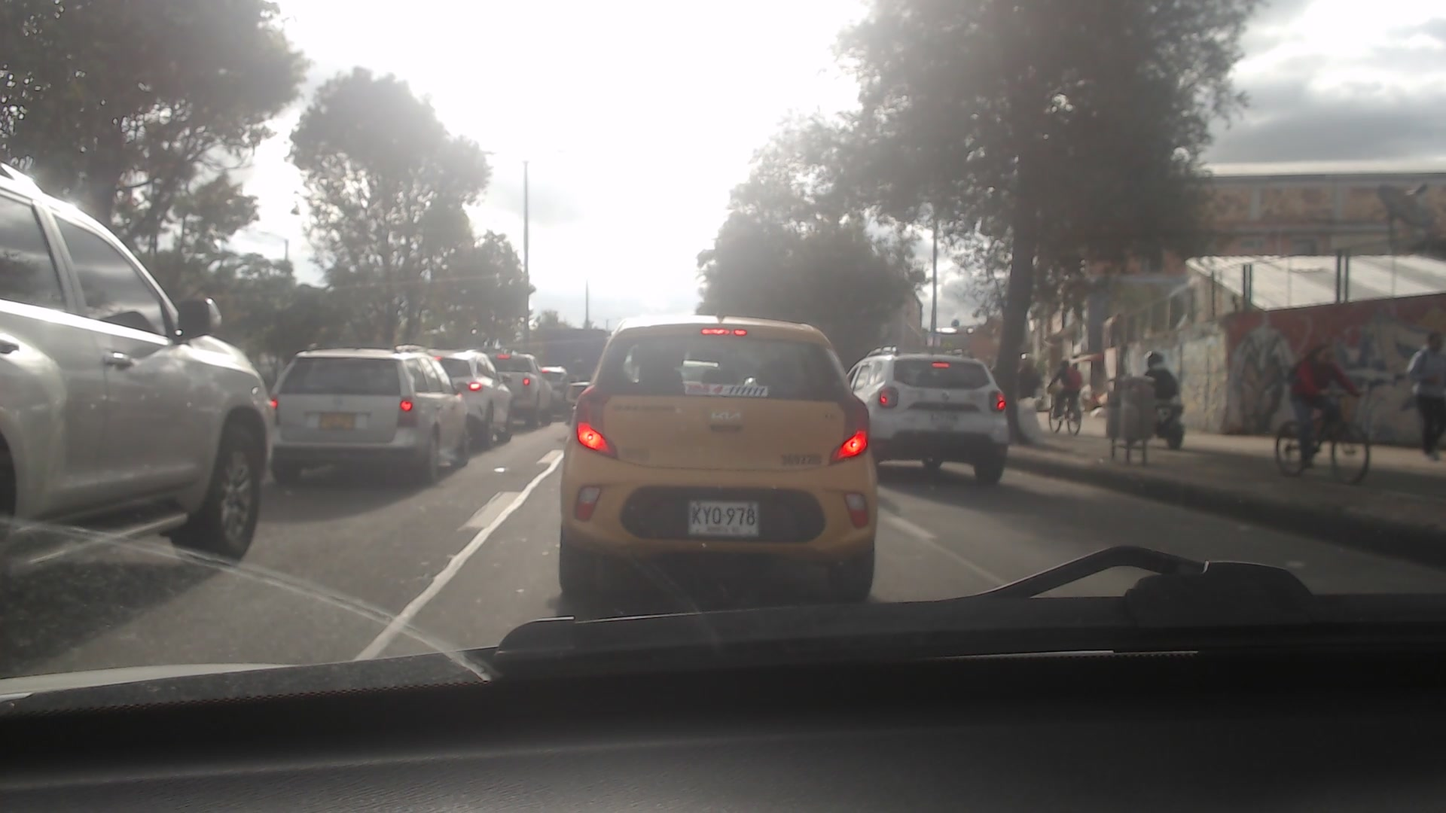bicycle: (1268, 403, 1368, 487)
car: (0, 160, 280, 566), (552, 303, 886, 613), (836, 342, 1012, 487), (270, 352, 471, 473), (429, 349, 512, 443), (481, 347, 553, 422)
person: (1283, 339, 1333, 452), (1140, 354, 1185, 404), (1054, 357, 1081, 415)
